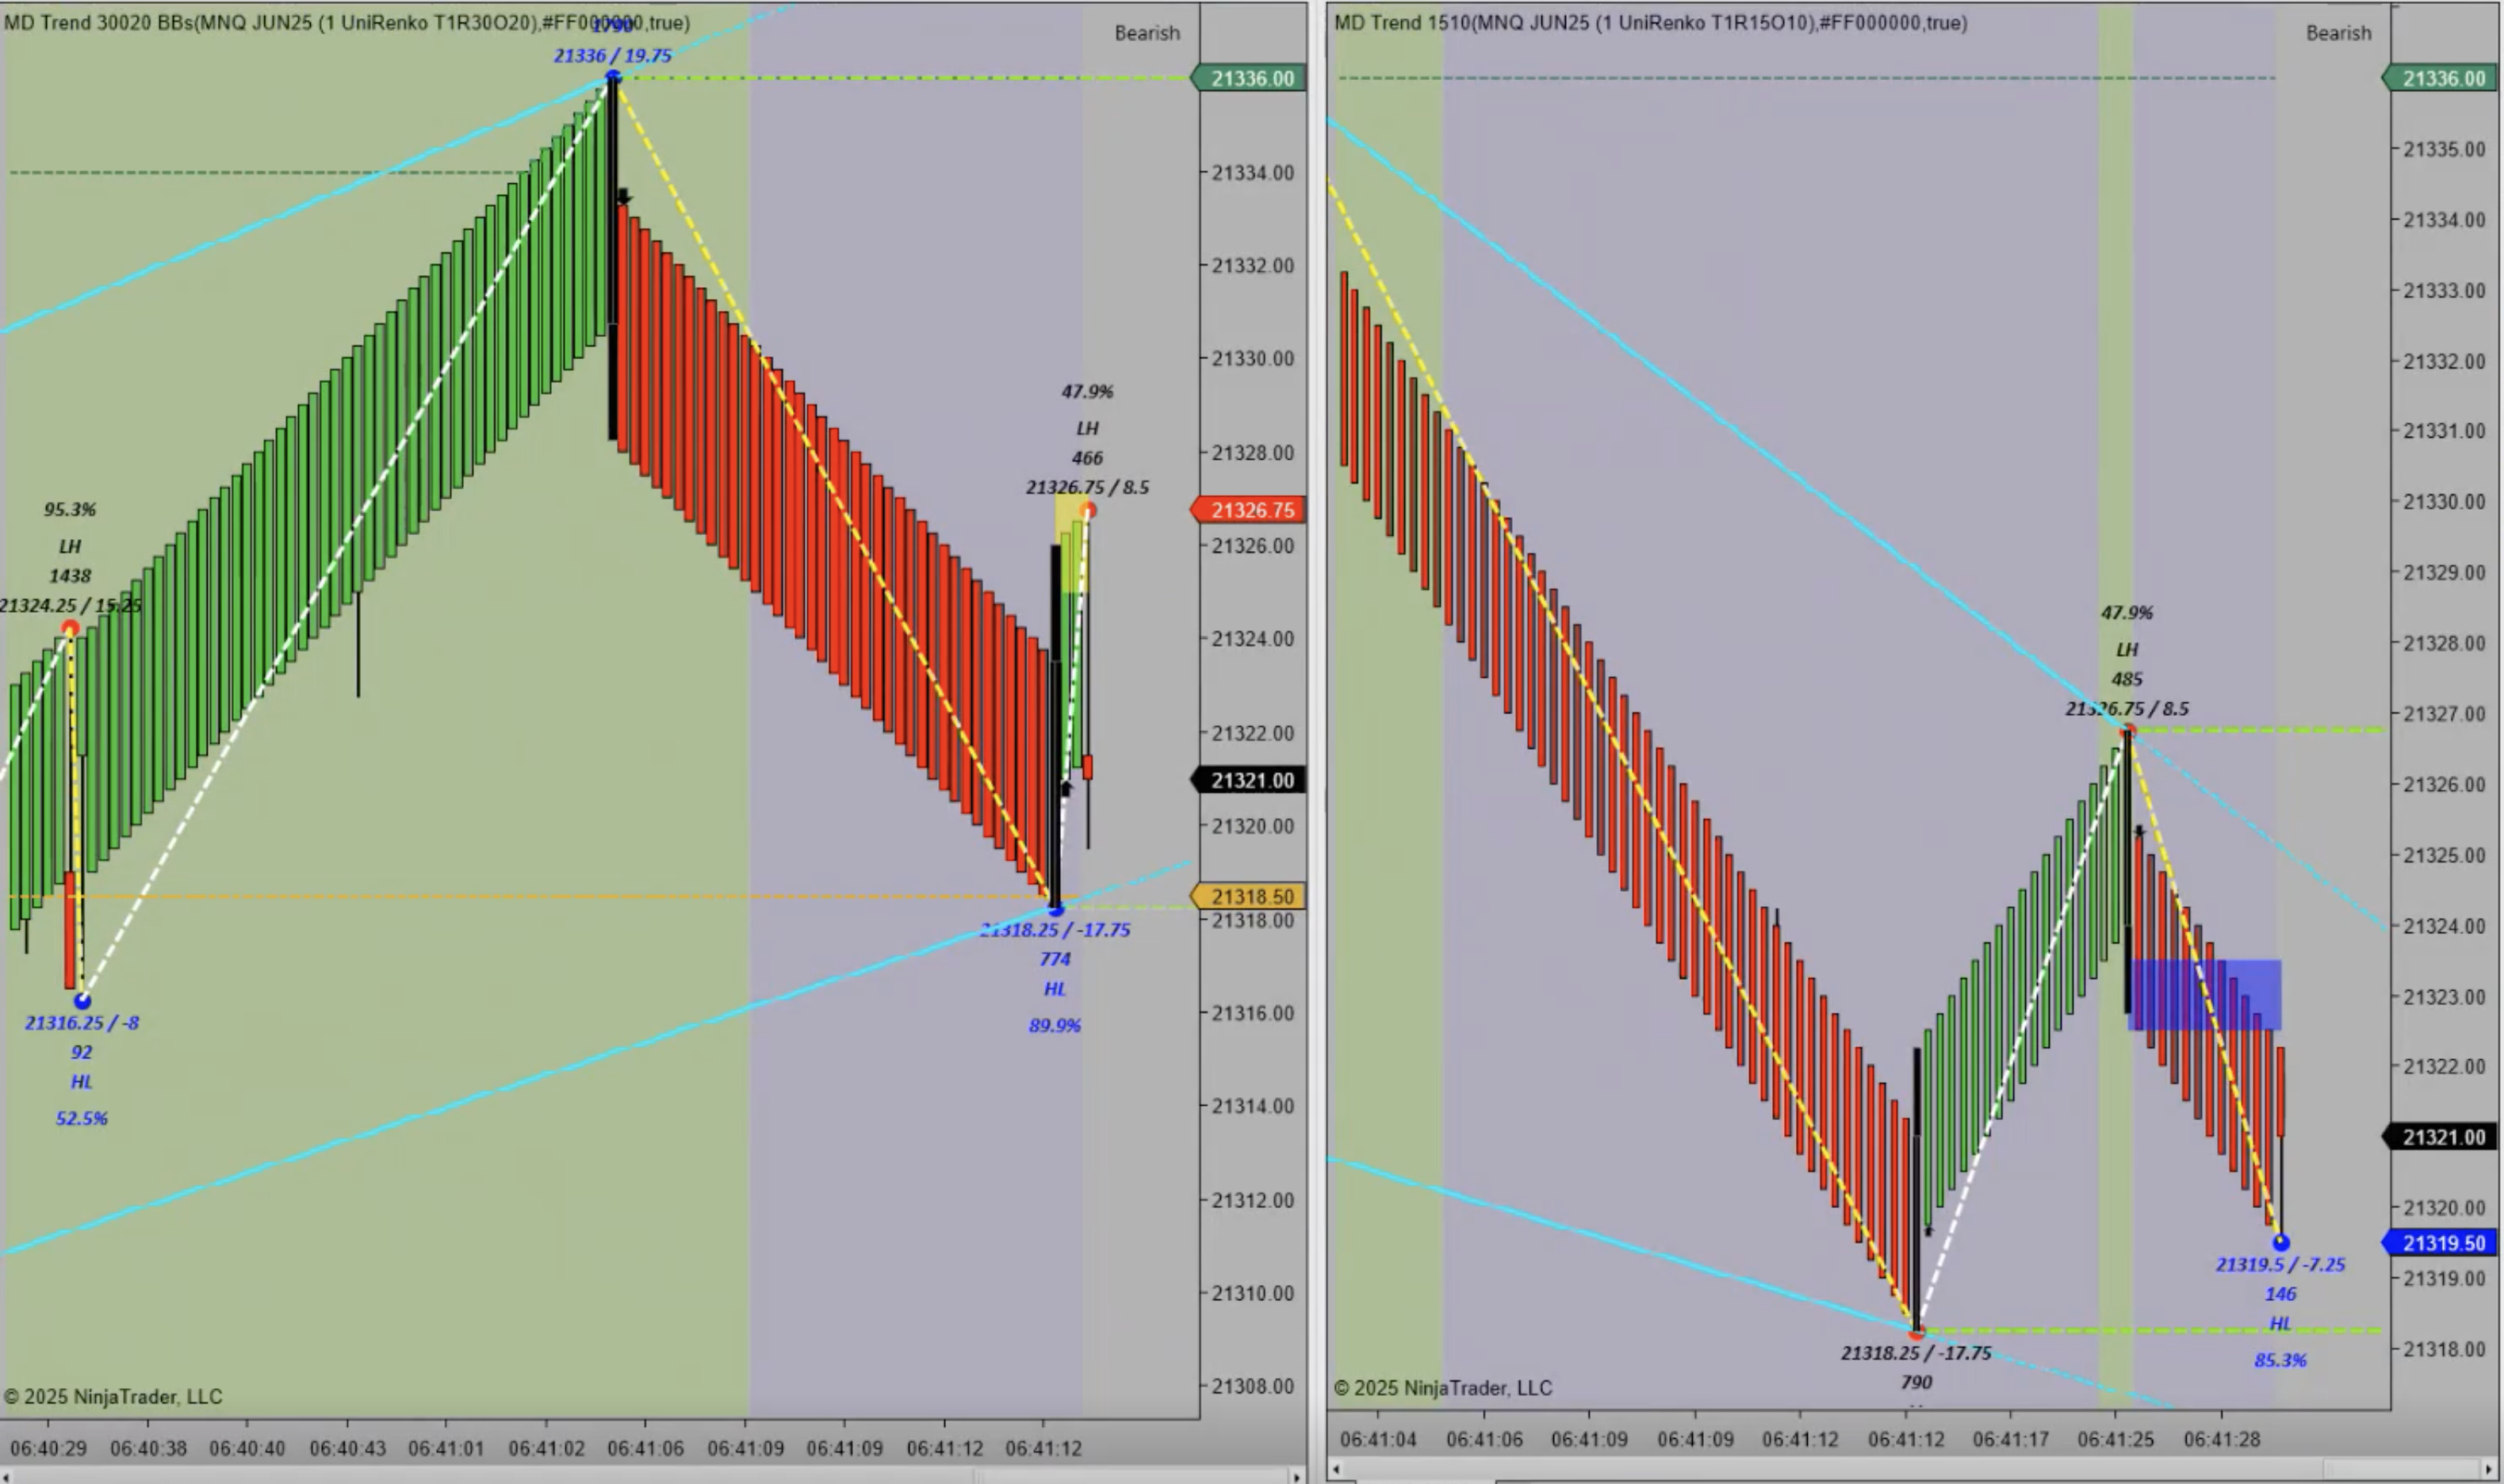candle: (1048, 541, 1067, 910), (608, 72, 626, 450), (1908, 1048, 1926, 1323), (2124, 726, 2140, 1025)
